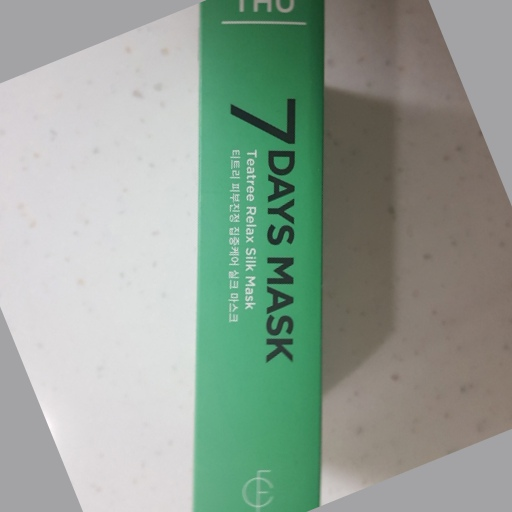Paper_0: (189, 1, 336, 512)
